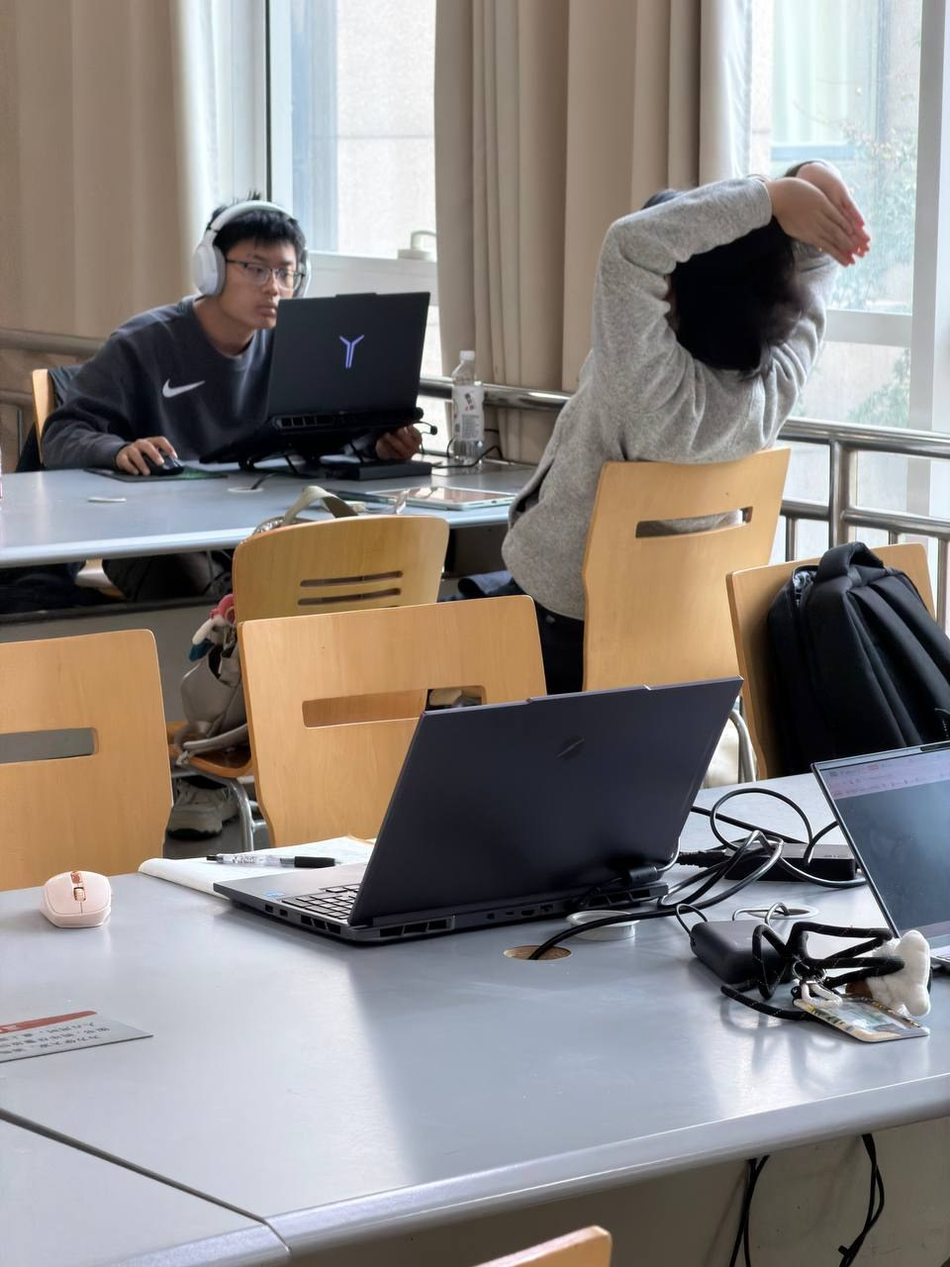laptop: (211, 675, 744, 946), (200, 291, 432, 465), (811, 739, 949, 967)
